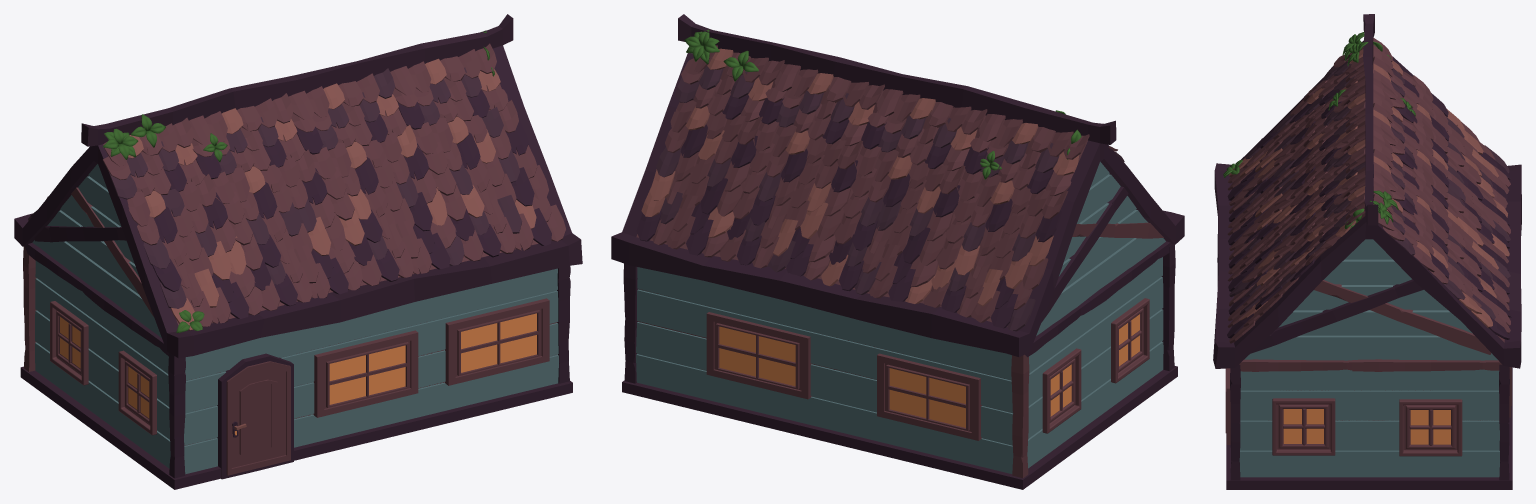
Rendered from casa-madeira8.fbx.
3 views of the same model, side by side, from view 1: azimuth 30°, elevation 25°; view 2: azimuth 150°, elevation 25°; view 3: azimuth 270°, elevation 25° (orthographic). The views are drawn at different scales.
Visible parts, largest first — view 1: Plane.049, Plane.005; view 2: Plane.049; view 3: Plane.049.
Boxes of the visible parts, left/top/right/bottom form: Plane.049: left=14, top=14, right=582, bottom=489; Plane.005: left=226, top=361, right=290, bottom=475; Plane.049: left=611, top=14, right=1184, bottom=489; Plane.049: left=1213, top=14, right=1521, bottom=489.
Bounding box in the file's own units: 581 × 409 × 390.
